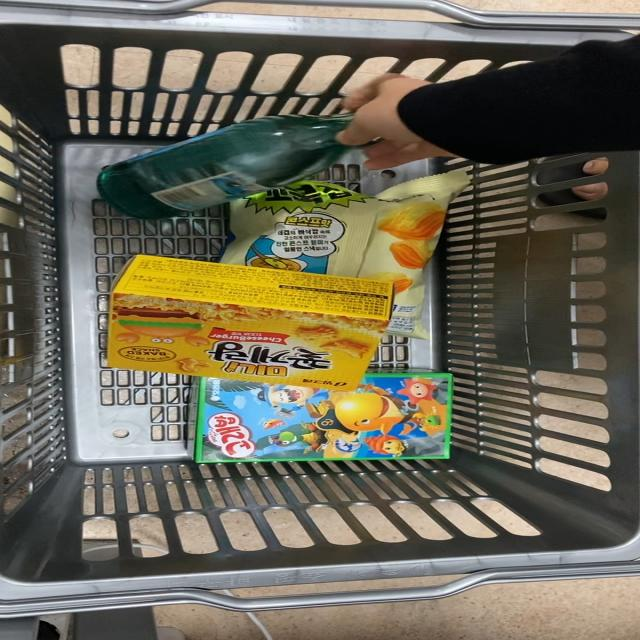ggobukchip: (238, 187, 450, 277)
goraebob: (176, 370, 452, 459)
jinro: (93, 107, 362, 213)
minicrab: (96, 258, 384, 379)
